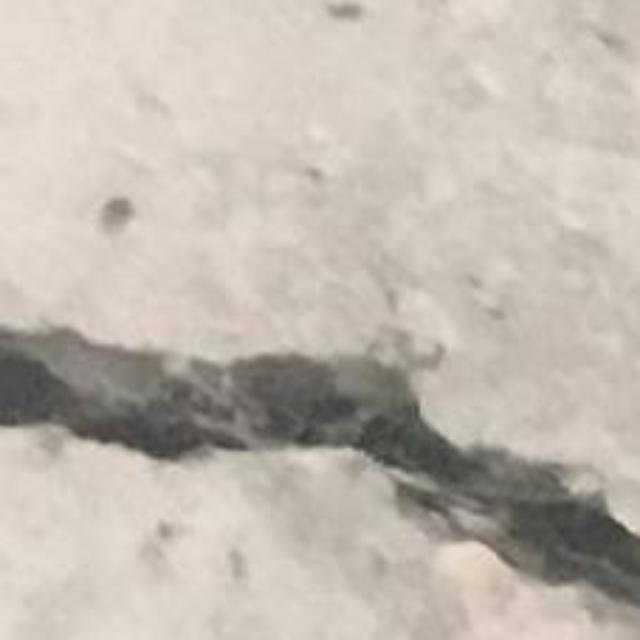crack: (0, 328, 639, 606)
